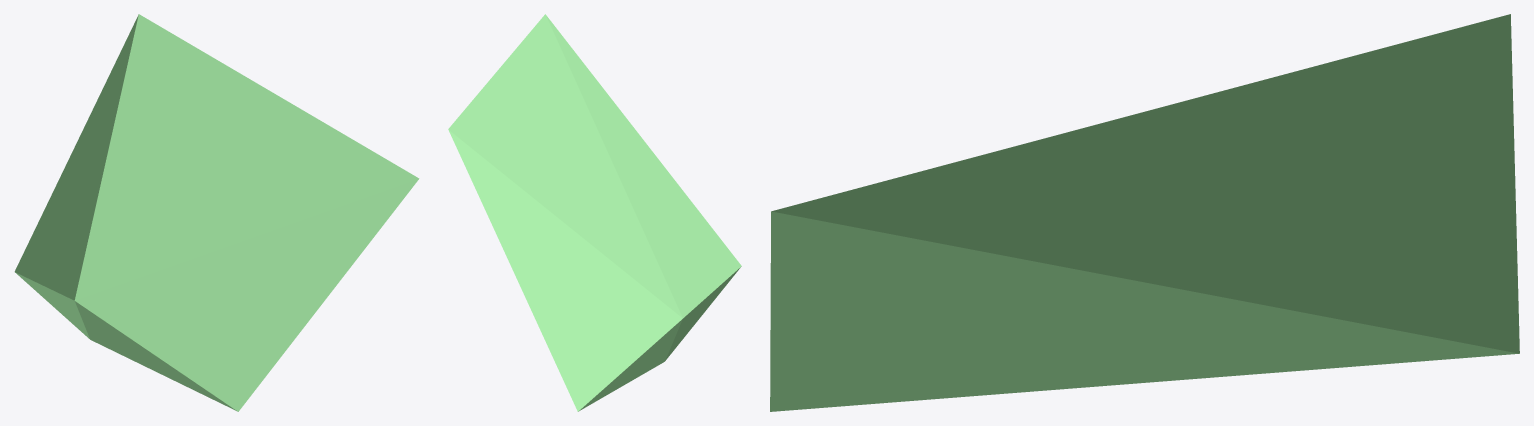
The model's file is franka_link7resp_coll_6.dae.
The picture shows the model from 3 angles, left to right: view 1: azimuth 30°, elevation 25°; view 2: azimuth 150°, elevation 25°; view 3: azimuth 270°, elevation 25°; orthographic projection. The views are drawn at different scales.
Parts seen in each view (by area): view 1: node; view 2: node; view 3: node.
Boxes of the visible parts, <box> form: node: <box>14,14,419,411</box>; node: <box>448,14,741,411</box>; node: <box>770,14,1519,411</box>.
Bounding box in the file's own units: 0.0156 × 0.0153 × 0.0215.
